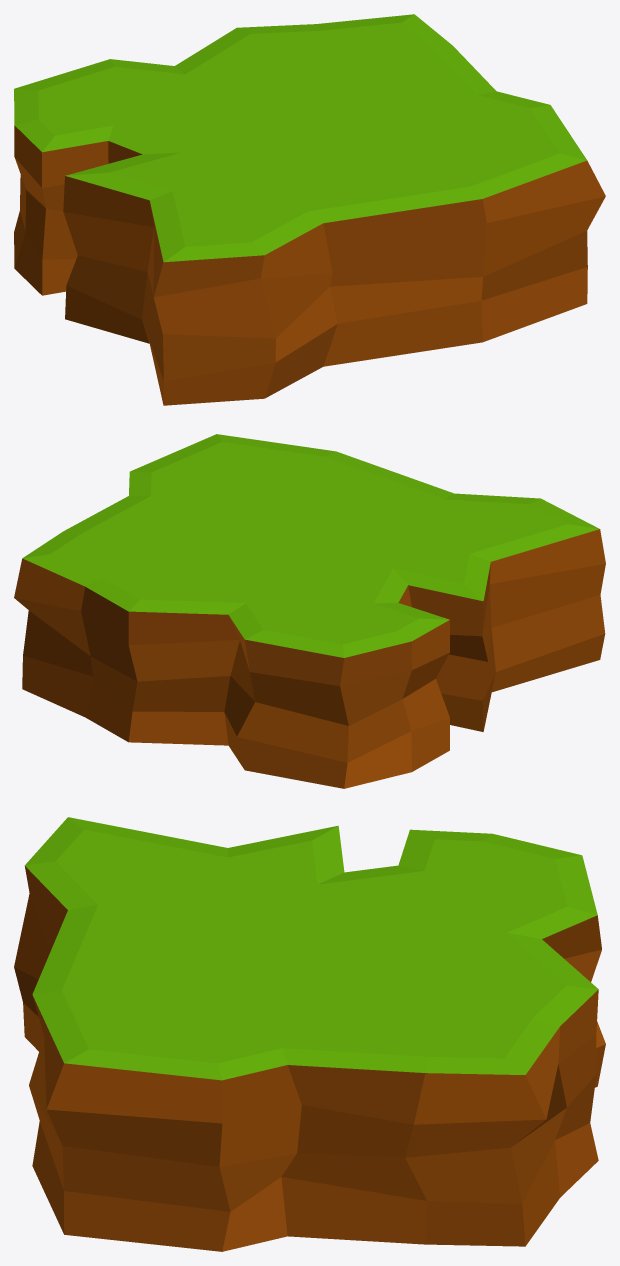
Rendered from land_square_01.fbx.
3 views of the same model, one above another, from view 1: azimuth 30°, elevation 25°; view 2: azimuth 150°, elevation 25°; view 3: azimuth 270°, elevation 25° (orthographic). The views are drawn at different scales.
Visible parts, largest first — view 1: Plane.004; view 2: Plane.004; view 3: Plane.004.
Part boxes in pixels (x1,y1,x2,y2): Plane.004: [14, 14, 605, 405]; Plane.004: [14, 434, 605, 788]; Plane.004: [14, 817, 605, 1251].
Bounding box in the file's own units: 1321 × 402 × 1228.
1 material, 1 textured.
